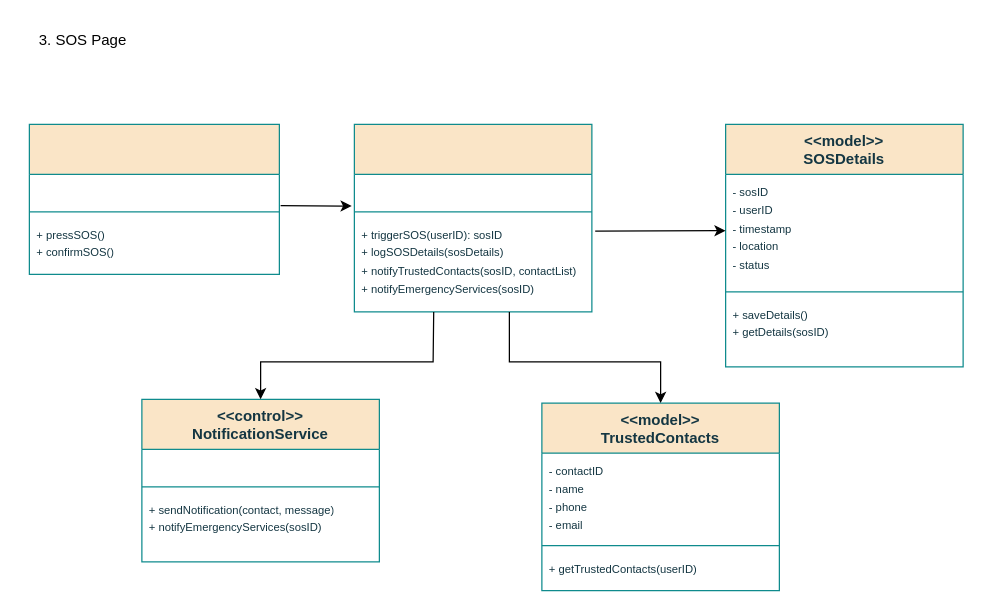
This 985x615 diagram has some shape labels left out. The box of each missing label's shape, as (x1, y1, x2, y2) in pixels:
<<control>> SOSControl: (353, 123, 592, 312)
<<view>> SOSButtonUI: (28, 123, 279, 274)
